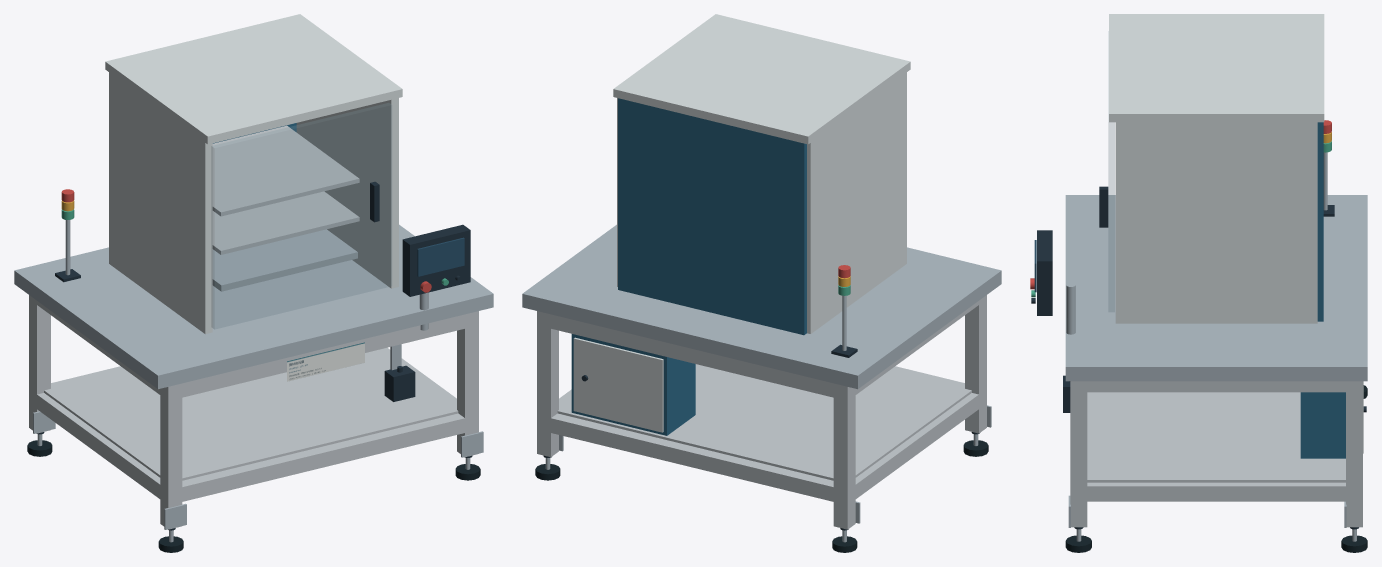
Rendered from autoclave-cell.glb.
The picture shows the model from 3 angles, left to right: view 1: azimuth 30°, elevation 25°; view 2: azimuth 150°, elevation 25°; view 3: azimuth 270°, elevation 25°; orthographic projection. The views are drawn at different scales.
Parts seen in each view (by area): view 1: DoorFrame_52, ClosedMachineBed_28, LowerShelf_29, ClosedRoof_51, EnclosureSide_48, EnclosureSide_49, InternalRack_56, SlottedExtrusion_22, InternalRack_55, ProcessShelf_54, SlottedExtrusion_23, SlottedExtrusion_8 (+8 smaller); view 2: ClosedBack_50, ClosedMachineBed_28, ClosedRoof_51, LowerShelf_29, EnclosureSide_48, BackDoor_31, SlottedExtrusion_20, SlottedExtrusion_21, SlottedExtrusion_3, Cabinet_30, SlottedExtrusion_24, SlottedExtrusion_13 (+2 smaller); view 3: EnclosureSide_49, ClosedMachineBed_28, ClosedRoof_51, LowerShelf_29, SlottedExtrusion_26, SlottedExtrusion_27, Cabinet_30, SlottedExtrusion_18, SlottedExtrusion_13, DoorFrame_52, ClosedBack_50, ConsoleBack_34 (+2 smaller).
Boxes of the visible parts, x1,y1,x2,y2 form: DoorFrame_52: (211, 103, 391, 328); ClosedMachineBed_28: (14, 224, 493, 389); LowerShelf_29: (44, 349, 458, 480); ClosedRoof_51: (105, 14, 402, 144); EnclosureSide_48: (109, 72, 212, 333); EnclosureSide_49: (296, 98, 398, 288); InternalRack_56: (212, 125, 359, 216); SlottedExtrusion_22: (177, 413, 466, 501); InternalRack_55: (212, 191, 359, 254); ProcessShelf_54: (212, 229, 357, 291); SlottedExtrusion_23: (175, 313, 467, 398); SlottedExtrusion_8: (160, 383, 182, 529); ClosedBack_50: (618, 98, 806, 335); ClosedMachineBed_28: (522, 224, 1001, 389); ClosedRoof_51: (613, 14, 910, 144); LowerShelf_29: (557, 364, 971, 480); EnclosureSide_48: (807, 72, 906, 333); BackDoor_31: (573, 337, 663, 432); SlottedExtrusion_20: (544, 413, 833, 501); SlottedExtrusion_21: (544, 313, 840, 398); SlottedExtrusion_3: (833, 383, 855, 529); Cabinet_30: (571, 334, 695, 435); SlottedExtrusion_24: (851, 392, 982, 501); SlottedExtrusion_13: (537, 311, 558, 457); EnclosureSide_49: (1115, 122, 1317, 323); ClosedMachineBed_28: (1065, 195, 1367, 381); ClosedRoof_51: (1109, 14, 1324, 122); LowerShelf_29: (1087, 392, 1345, 482); SlottedExtrusion_26: (1079, 482, 1354, 501); SlottedExtrusion_27: (1083, 381, 1351, 392); Cabinet_30: (1300, 392, 1345, 458); SlottedExtrusion_18: (1070, 381, 1087, 527); SlottedExtrusion_13: (1346, 381, 1362, 527); DoorFrame_52: (1108, 31, 1114, 311); ClosedBack_50: (1317, 122, 1323, 321); ConsoleBack_34: (1037, 230, 1052, 315).
Bounding box in the file's own units: 1.55 × 1.71 × 1.29.
12 materials, 1 textured.
